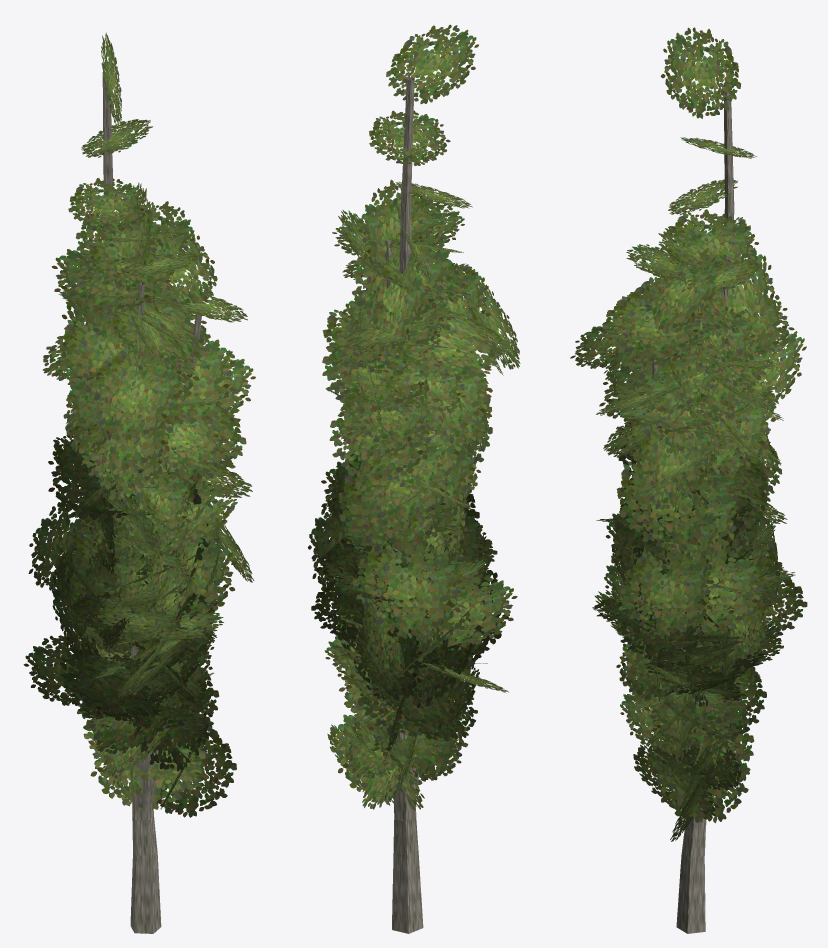
Rendered from Tree_Poplar_2_LOD1.gltf.
3 renders of one model, left to right at view 1: azimuth 30°, elevation 25°; view 2: azimuth 150°, elevation 25°; view 3: azimuth 270°, elevation 25°, orthographic. The views are drawn at different scales.
Visible parts, largest first — view 1: Tree_Poplar_2_LOD1; view 2: Tree_Poplar_2_LOD1; view 3: Tree_Poplar_2_LOD1.
Part boxes in pixels (left/top/right/bottom): Tree_Poplar_2_LOD1: left=23, top=32, right=255, bottom=933; Tree_Poplar_2_LOD1: left=308, top=24, right=520, bottom=933; Tree_Poplar_2_LOD1: left=570, top=27, right=807, bottom=933.
Size of the model in its own units: 5.84 by 23.32 by 6.06.
2 materials, 2 textured.
